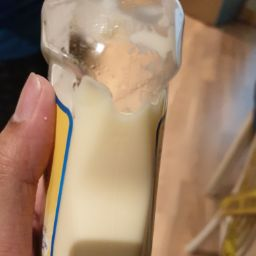Mayonnaise: (66, 18, 159, 195), (99, 107, 146, 256)
